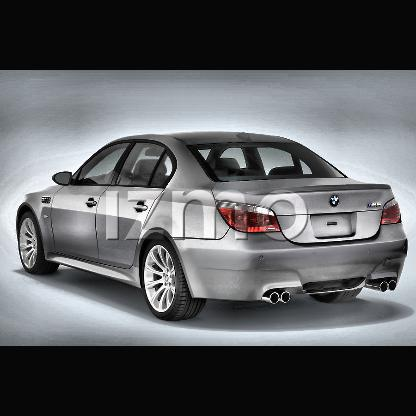BMW M5 Sedan 2010: (16, 132, 408, 322)
